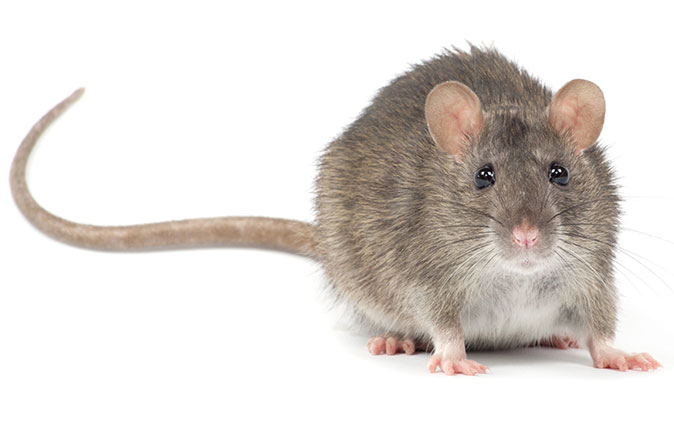rat: (198, 37, 674, 381)
